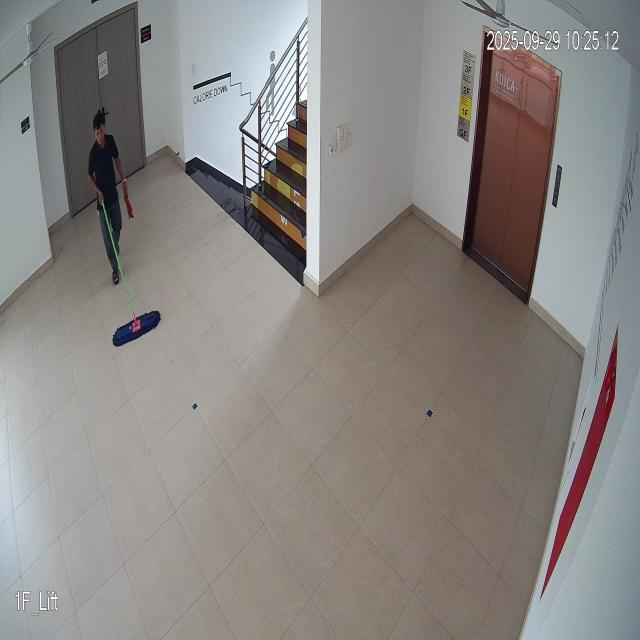face: (93, 113, 108, 145)
